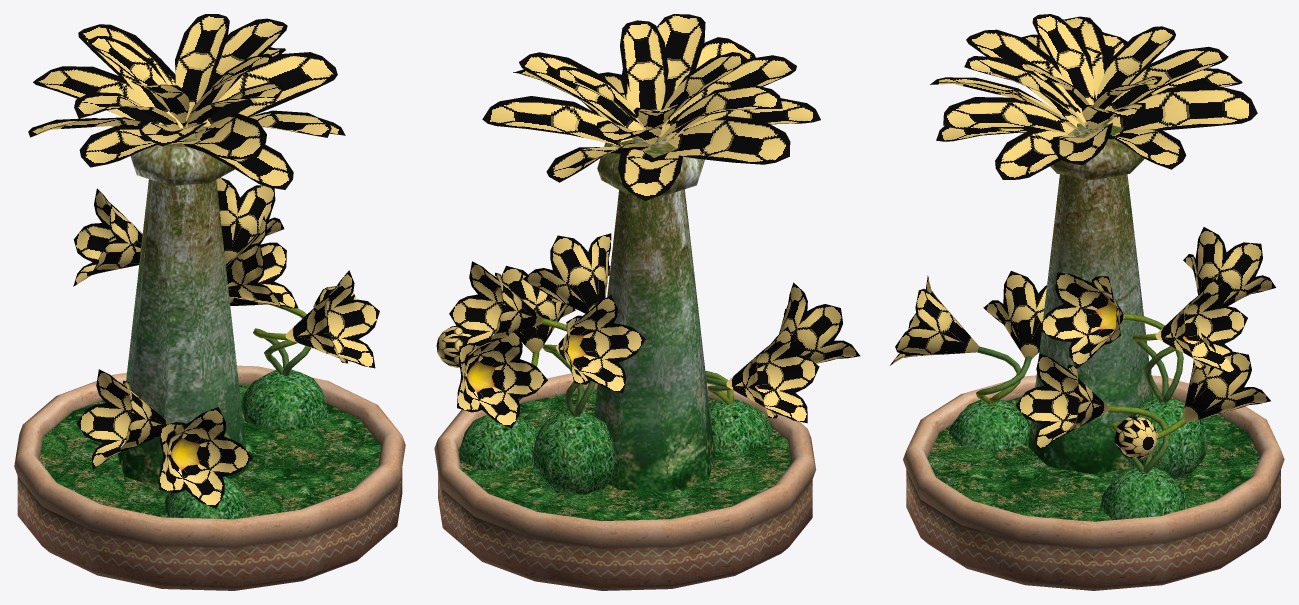
File: pot_medium_1.fbx
3 views of the same model, side by side, from view 1: azimuth 30°, elevation 25°; view 2: azimuth 150°, elevation 25°; view 3: azimuth 270°, elevation 25° (orthographic). The views are drawn at different scales.
Parts seen in each view (by area): view 1: JUN_TREE_C_NOCOLI; view 2: JUN_TREE_C_NOCOLI; view 3: JUN_TREE_C_NOCOLI.
Part boxes in pixels (x1=…): JUN_TREE_C_NOCOLI: x1=14, y1=14, x2=405, y2=590; JUN_TREE_C_NOCOLI: x1=434, y1=14, x2=860, y2=590; JUN_TREE_C_NOCOLI: x1=890, y1=14, x2=1284, y2=590.
Size of the model in its own units: 258 by 339 by 265.
